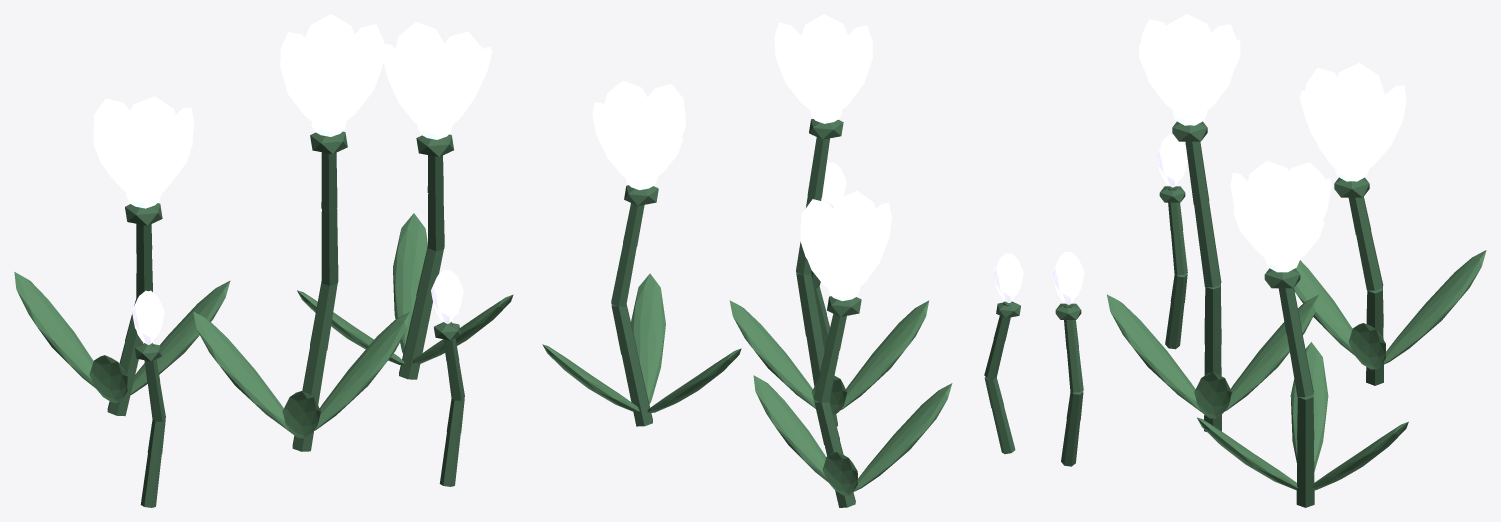
File: fleur_touffe.glb
3 views of the same model, side by side, from view 1: azimuth 30°, elevation 25°; view 2: azimuth 150°, elevation 25°; view 3: azimuth 270°, elevation 25° (orthographic). The views are drawn at different scales.
Parts seen in each view (by area): view 1: fleur_touffe; view 2: fleur_touffe; view 3: fleur_touffe.
Boxes of the visible parts, x1,y1,x2,y2 form: fleur_touffe: (14,14,513,507); fleur_touffe: (542,14,1023,507); fleur_touffe: (1052,14,1486,507).
Bounding box in the file's own units: 0.7897 × 0.7833 × 0.7508.
